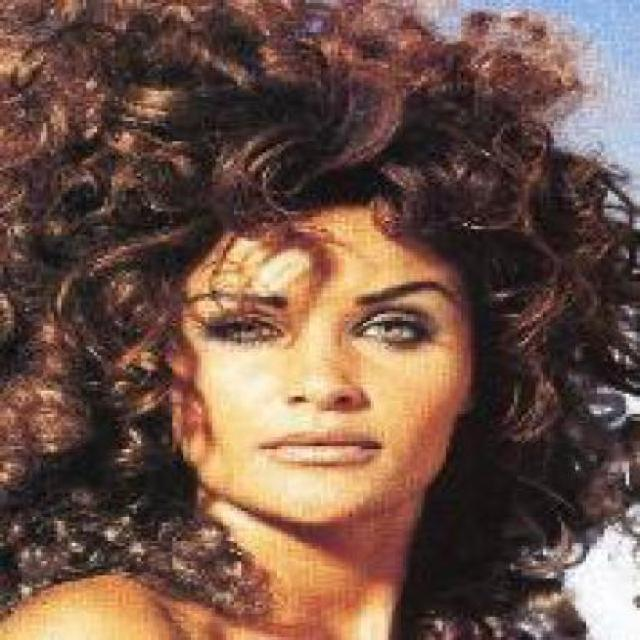closed-mouth: (258, 431, 384, 464)
